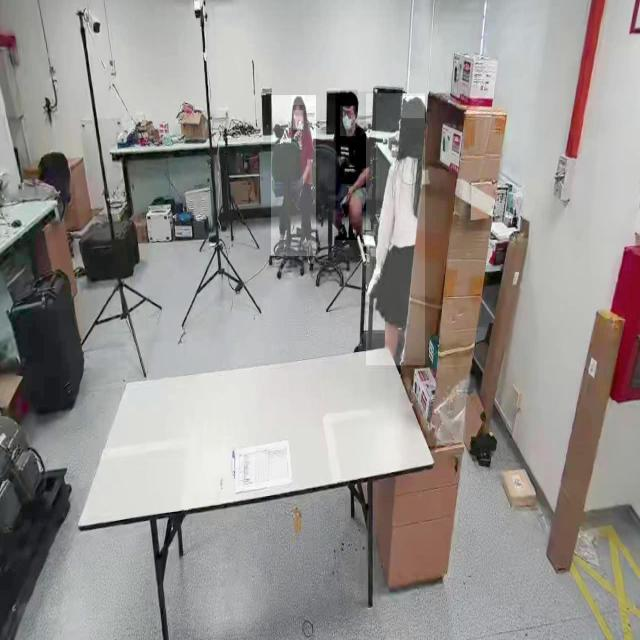face_mask: (340, 106, 356, 136)
face_nomask: (293, 110, 304, 131)
hand_noglove: (342, 184, 354, 205), (292, 128, 302, 142)
head_nohelmet: (401, 96, 425, 119), (340, 90, 358, 105), (291, 95, 305, 106)
person: (366, 94, 426, 366), (271, 95, 317, 257), (336, 91, 376, 241)
